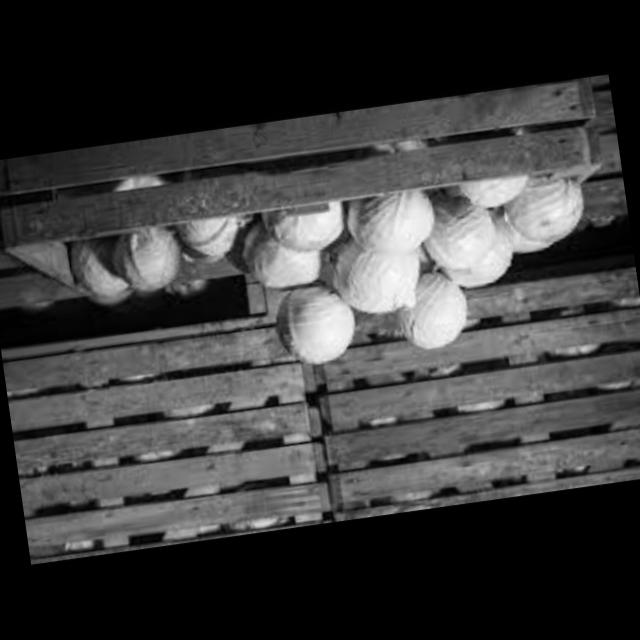cabbage: (408, 202, 534, 316), (264, 282, 369, 383), (482, 179, 582, 272), (328, 235, 426, 328), (324, 188, 434, 266), (372, 271, 476, 348), (225, 222, 316, 304), (68, 228, 140, 322), (118, 225, 196, 303), (160, 215, 243, 284)
